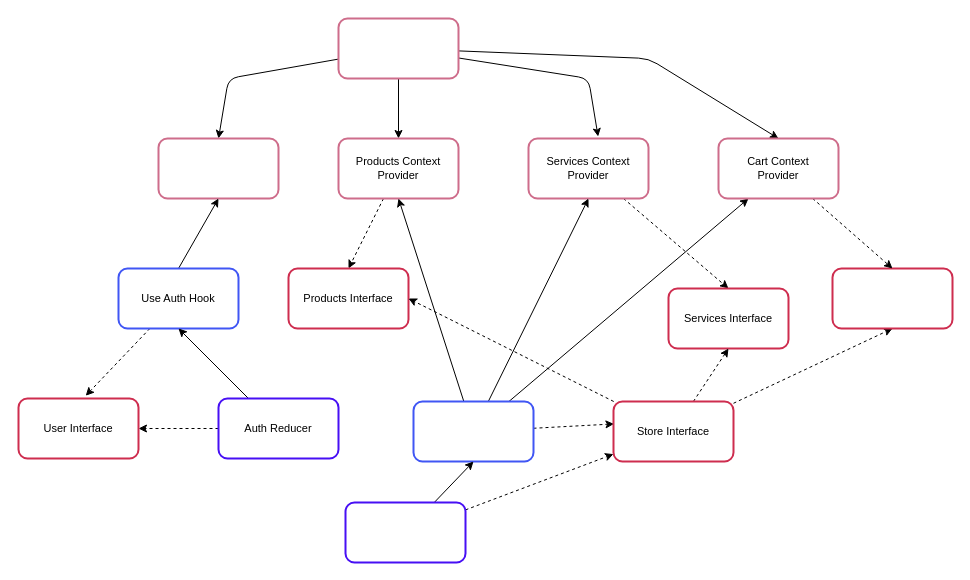
Some shapes in this 970 by 580 pixel diagram are drawn without their labels. Here are the shapes that lost their labels. From the top down, the centre of each, then its label:
the point at 398,48: Context Manager Provider
the point at 218,168: User Context Provider
the point at 892,298: Cart Interface
the point at 473,431: Use Store Hook
the point at 405,532: Store Reducer
